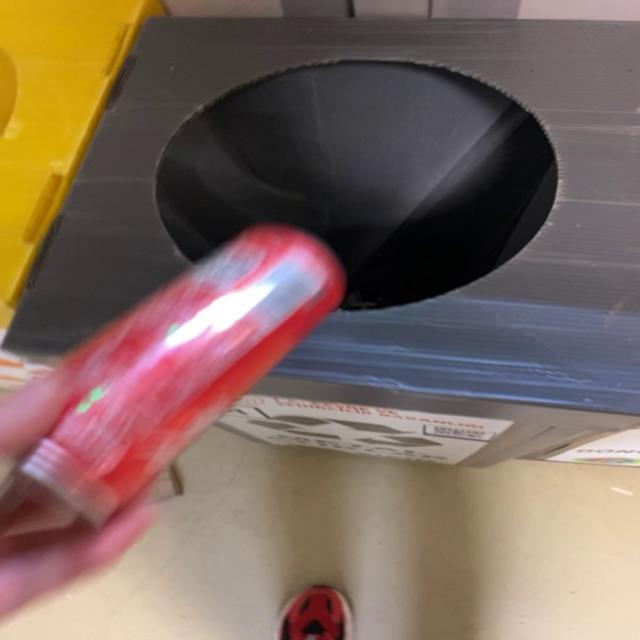bin: (3, 17, 640, 466)
metal: (0, 223, 344, 555)
